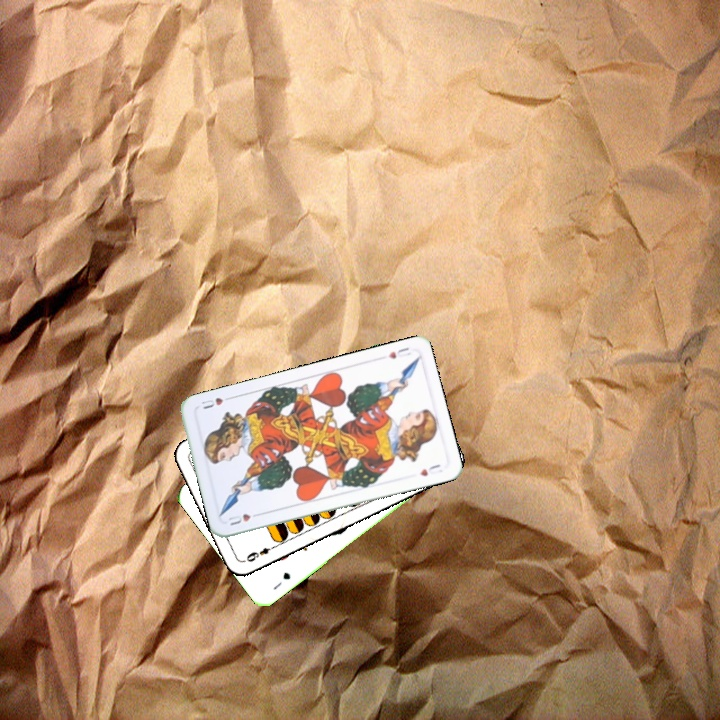E9: (242, 541, 279, 565)
GU: (269, 568, 293, 593)
HU: (224, 509, 264, 528), (384, 343, 413, 361)
